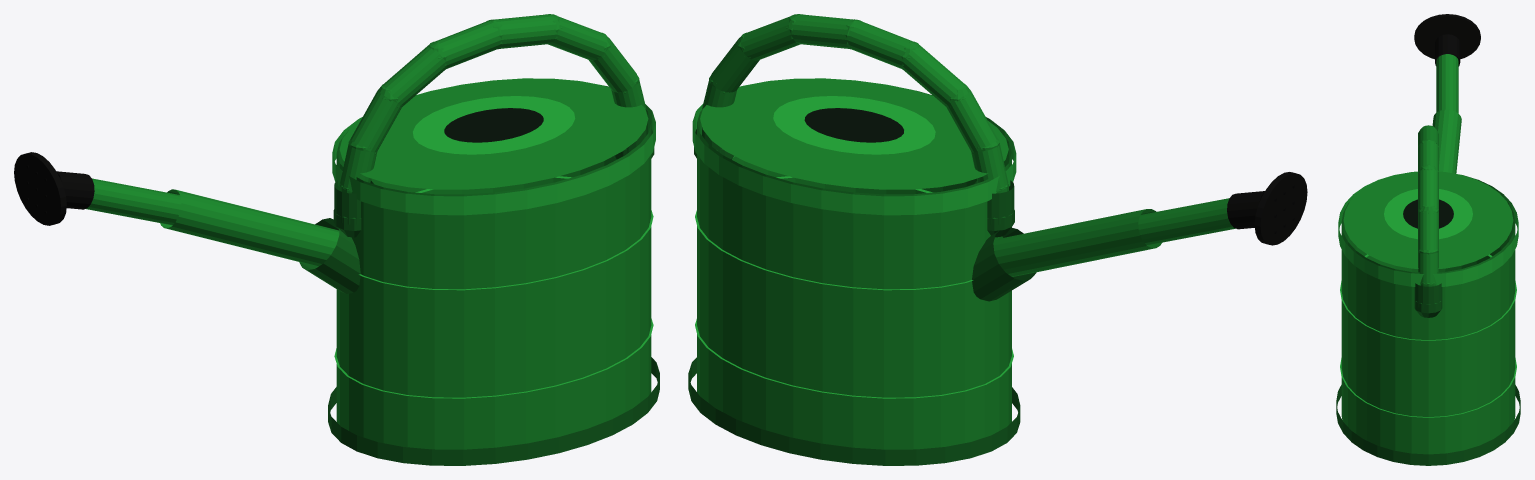
Rendered from SM_Prop_WateringCan_01.obj.
3 renders of one model, left to right at view 1: azimuth 30°, elevation 25°; view 2: azimuth 150°, elevation 25°; view 3: azimuth 270°, elevation 25°, orthographic. The views are drawn at different scales.
Parts seen in each view (by area): view 1: SM_Prop_WateringCan_01; view 2: SM_Prop_WateringCan_01; view 3: SM_Prop_WateringCan_01.
Boxes of the visible parts, <box> form: SM_Prop_WateringCan_01: <box>14,14,659,465</box>; SM_Prop_WateringCan_01: <box>688,14,1307,465</box>; SM_Prop_WateringCan_01: <box>1336,14,1520,465</box>.
Size of the model in its own units: 46.48 by 28.63 by 17.4.
